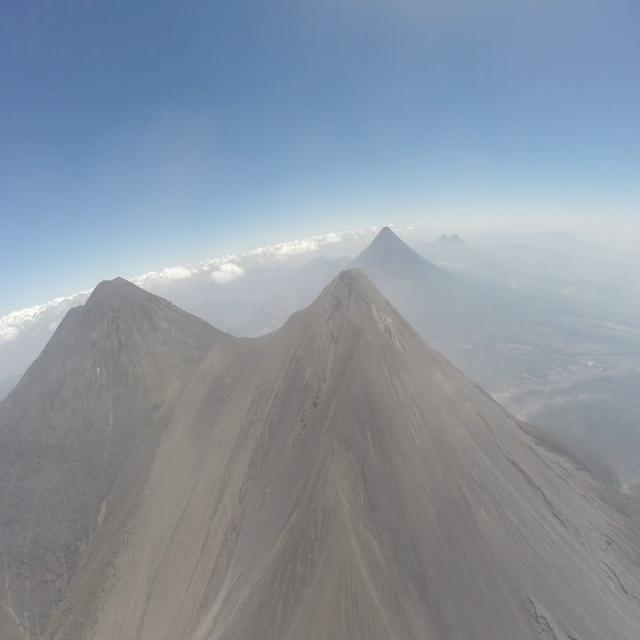Summit: (271, 262, 442, 356)
